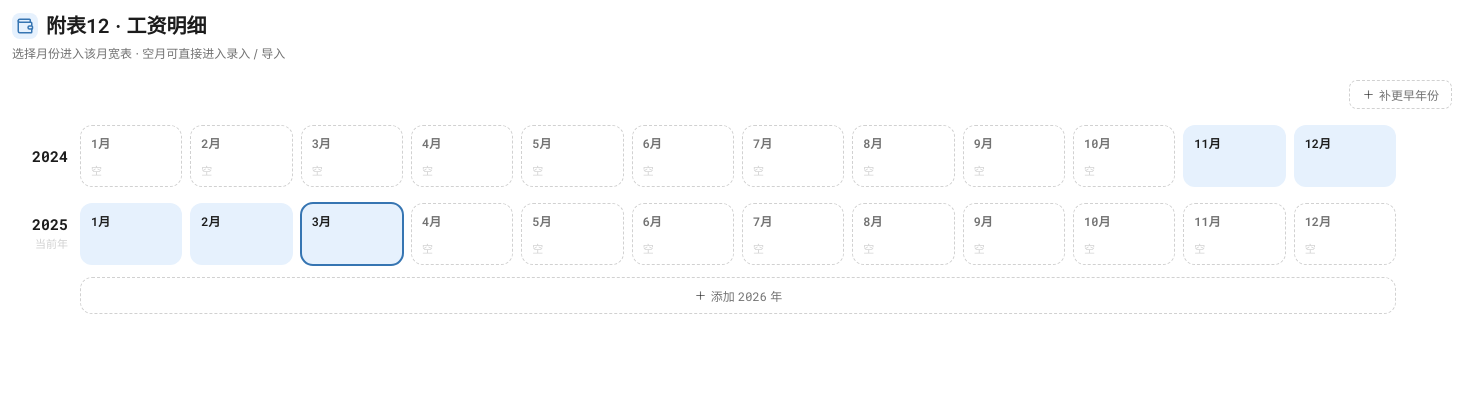
Scenario: 附表12 · 一层选期门 › ❗「补更早年份」不再是死按钮 —— 上一版只接了 @pick
Click the button with class "bmm-addy" at (1400, 94), box [1349, 80, 1452, 109]
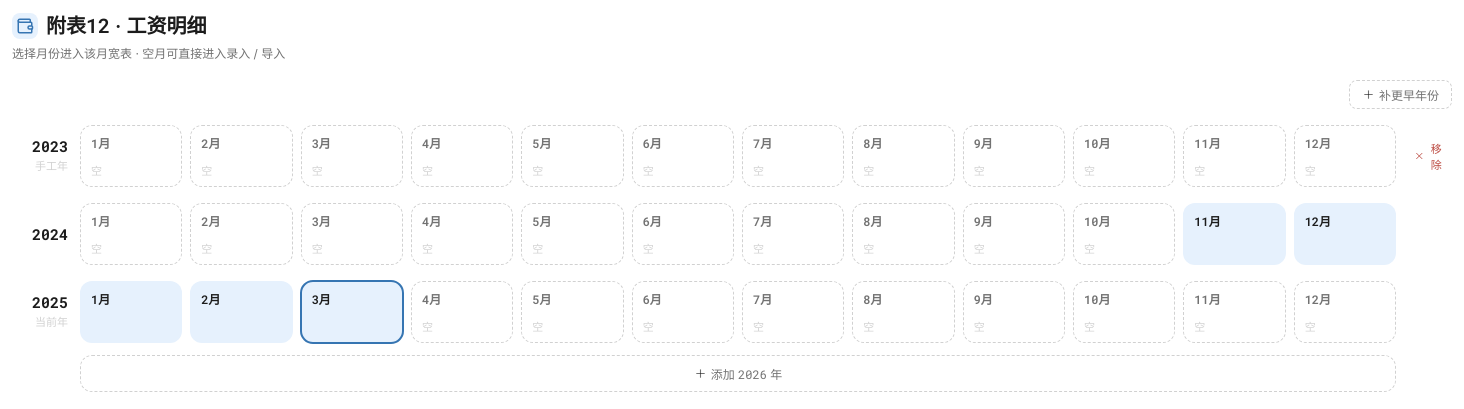
Result: the elements with class "bmm-y" read "2023", "2024", "2025", in this order at [32, 136, 68, 156]; [32, 224, 68, 244]; [32, 292, 68, 312]
